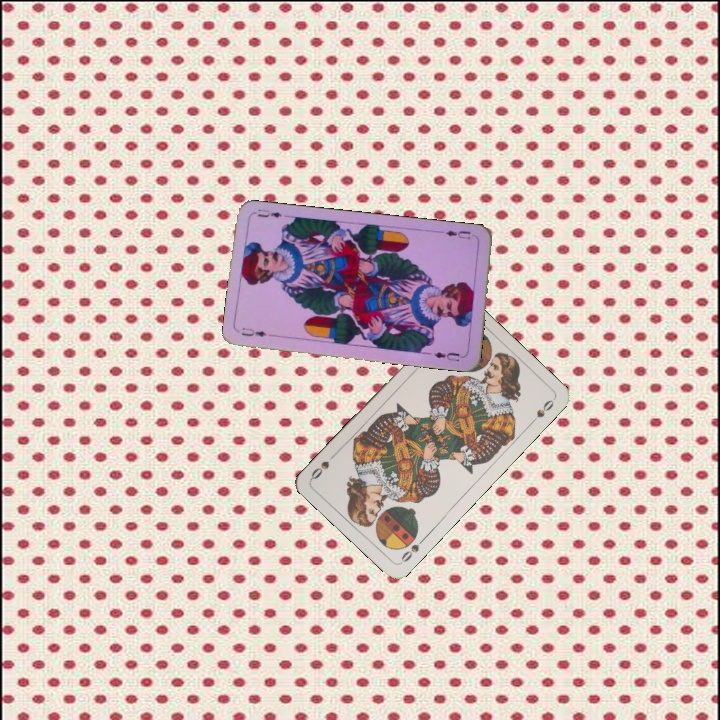EU: (442, 226, 478, 242), (237, 324, 269, 340)
SO: (396, 533, 428, 566)
